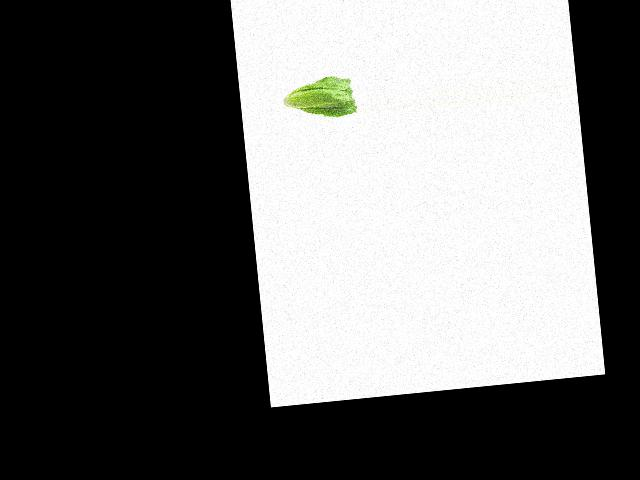lettuce: (281, 68, 358, 124)
